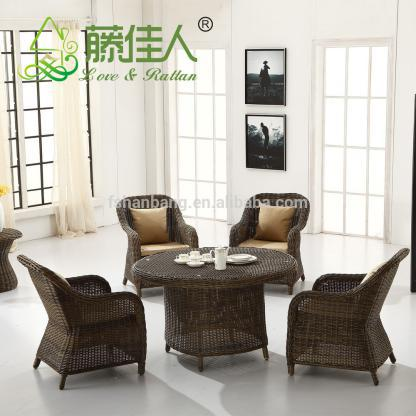bantal: (257, 203, 291, 242), (132, 209, 167, 242)
gelas: (177, 253, 189, 262), (200, 253, 213, 261), (190, 257, 200, 265)
kursi: (228, 193, 313, 248), (117, 195, 201, 249)
lampu: (15, 252, 153, 385), (290, 250, 406, 389)
tanaman: (134, 244, 277, 372)
